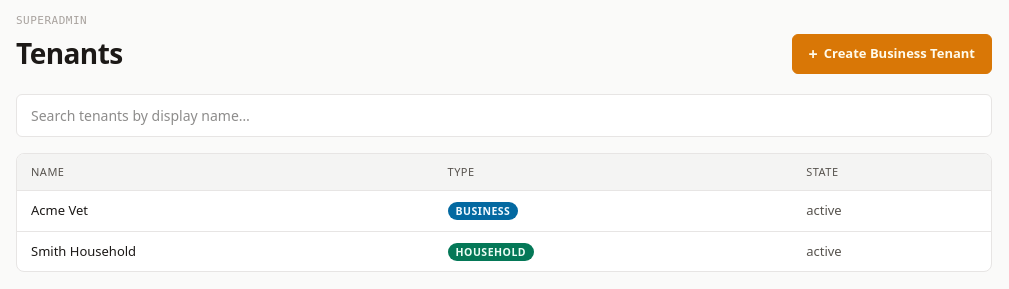
Test: search input filters displayed rows client-side
Expected: the link "Acme Vet" is shown, top-left (31, 201), bottom-right (88, 219)
Type "acme" into the search field with placeholder "Search tenants by display name…" at (504, 115), box top-left (16, 94), bottom-right (992, 136)
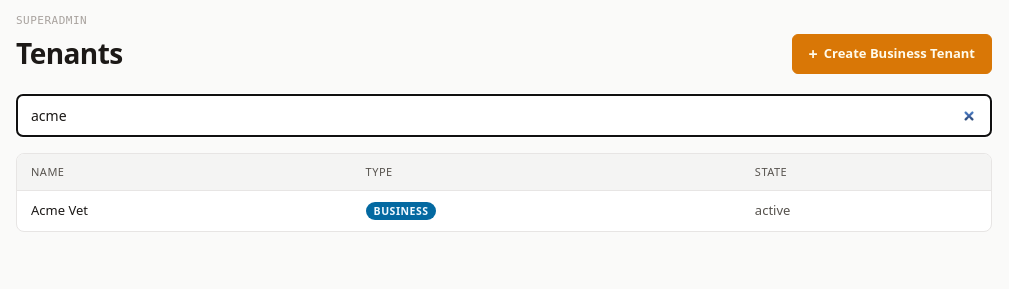
Expected: the link "Acme Vet" is shown, top-left (31, 201), bottom-right (88, 219)
Expected: the link "Smith Household" is gone
